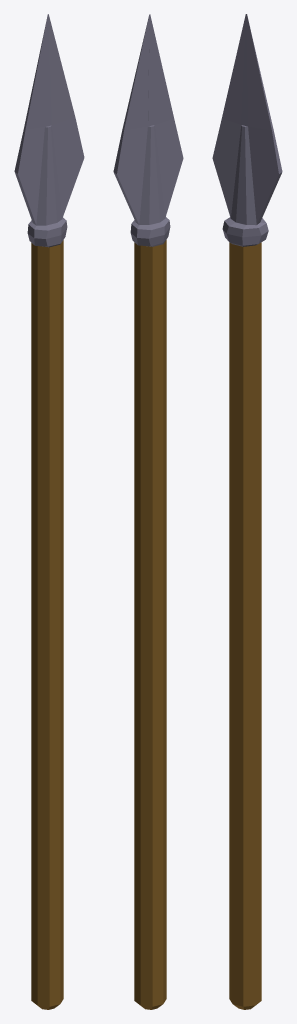
Rendered from Kopie.fbx.
3 renders of one model, left to right at view 1: azimuth 30°, elevation 25°; view 2: azimuth 210°, elevation 25°; view 3: azimuth 330°, elevation 25°, orthographic.
Parts seen in each view (by area): view 1: копье; view 2: копье; view 3: копье.
Part boxes in pixels (x1=…): копье: x1=14, y1=14, x2=84, y2=1009; копье: x1=113, y1=14, x2=183, y2=1009; копье: x1=212, y1=14, x2=282, y2=1009.
Size of the model in its own units: 30.6 by 436 by 13.87.
